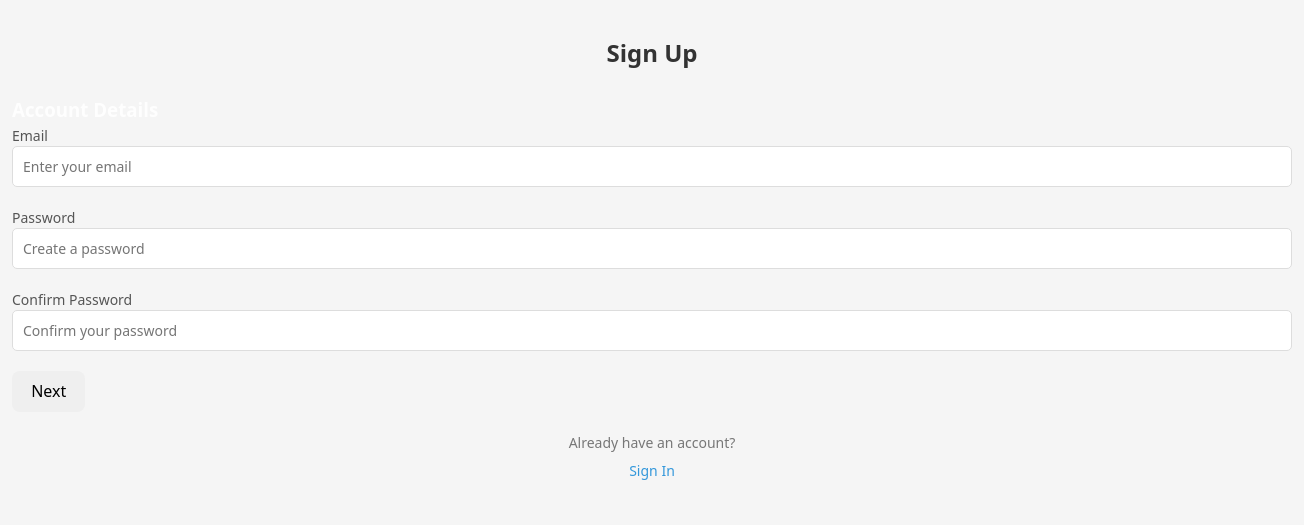
SignUpForm › renders step 1 and shows validation error for mismatched passwords
Type "user@example.com" into the field labelled "Email" at [652, 166], box [12,146,1292,186]
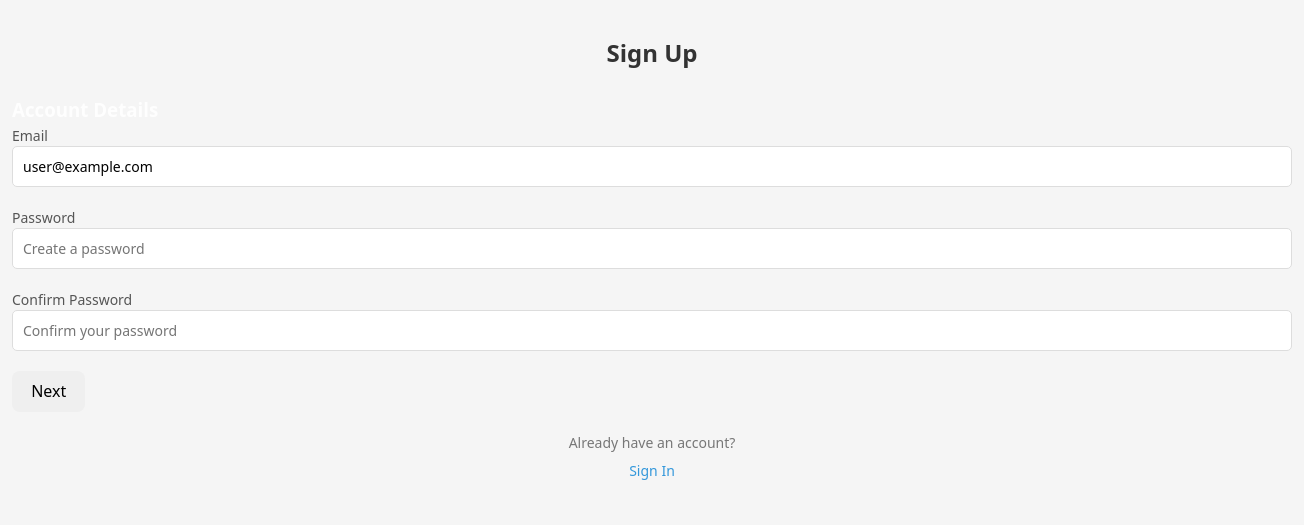
Type "123456" into the password field labelled "Password" at [652, 248], box [12,228,1292,268]
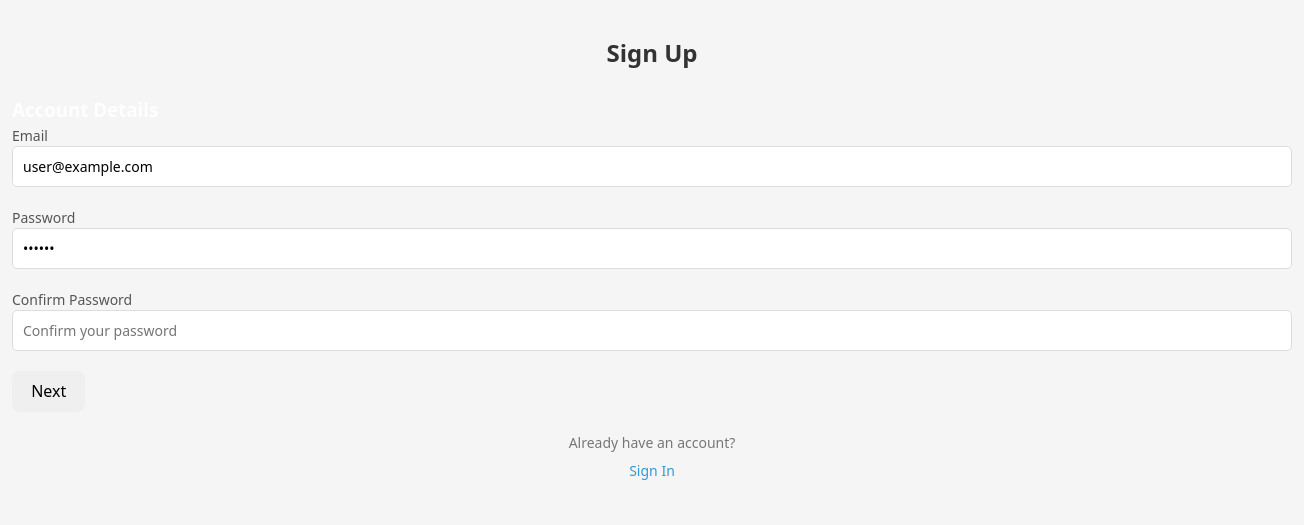
Type "654321" into the password field labelled "Confirm Password" at [652, 330], box [12,310,1292,350]
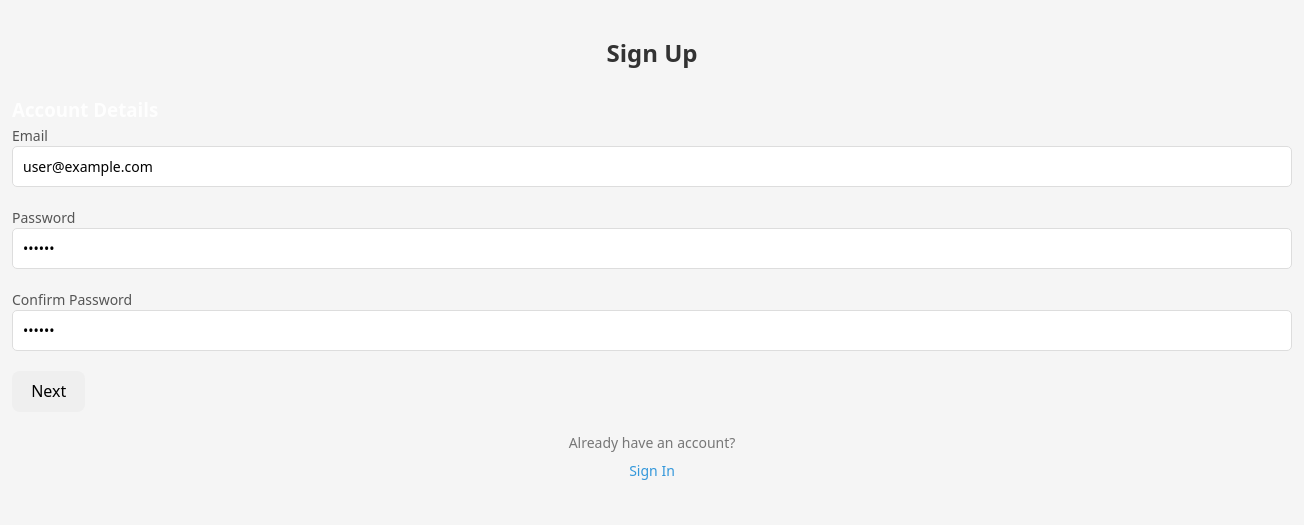
Click the button "Next" at [49, 391], box [12,370,86,412]
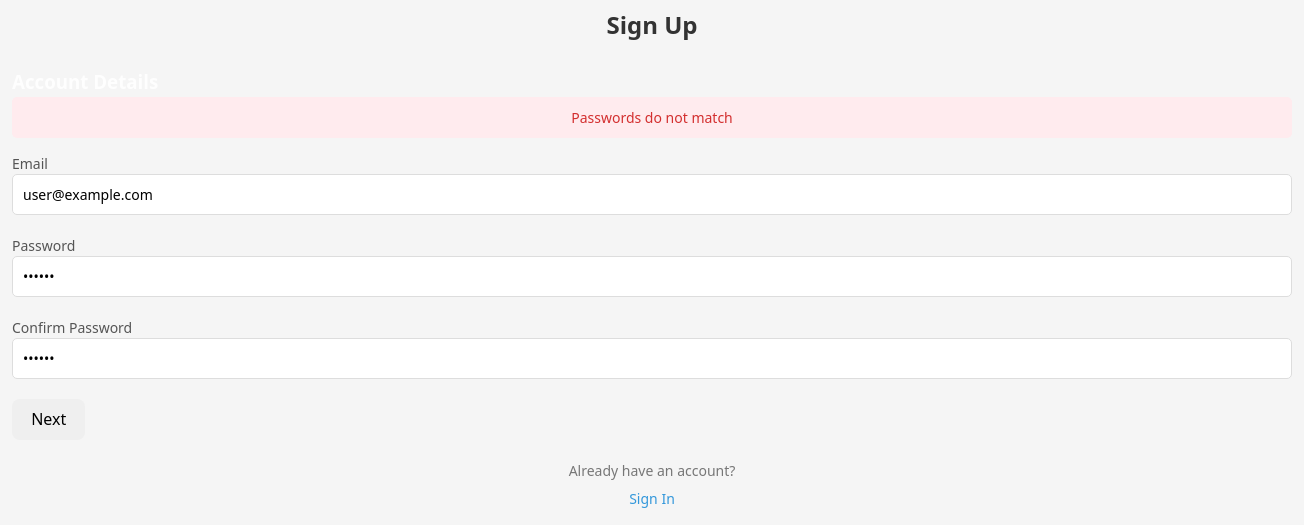
Now the text "Passwords do not match" is shown, box [12,96,1292,138]
